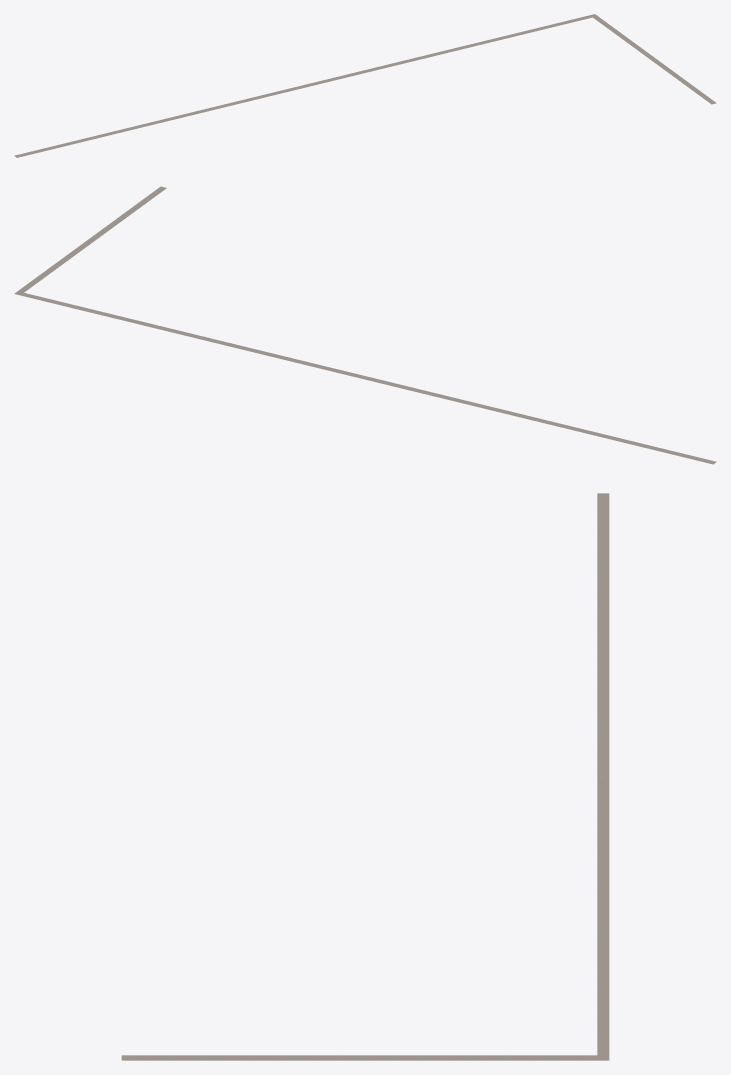
Rendered from kd_stage_135d18_4_84_bounded_piece_5.glb.
The picture shows the model from 3 angles, top to bottom: view 1: azimuth 30°, elevation 25°; view 2: azimuth 150°, elevation 25°; view 3: azimuth 270°, elevation 25°; orthographic projection. The views are drawn at different scales.
Visible parts, largest first — view 1: kd_stage_135d18_4_84_bounded_piece_5; view 2: kd_stage_135d18_4_84_bounded_piece_5; view 3: kd_stage_135d18_4_84_bounded_piece_5.
Boxes of the visible parts, x1,y1,x2,y2 form: kd_stage_135d18_4_84_bounded_piece_5: (14, 14, 716, 157); kd_stage_135d18_4_84_bounded_piece_5: (14, 186, 716, 464); kd_stage_135d18_4_84_bounded_piece_5: (121, 493, 609, 1060).
Bounding box in the file's own units: 2.2 × 0 × 0.8.
1 material, 1 textured.
